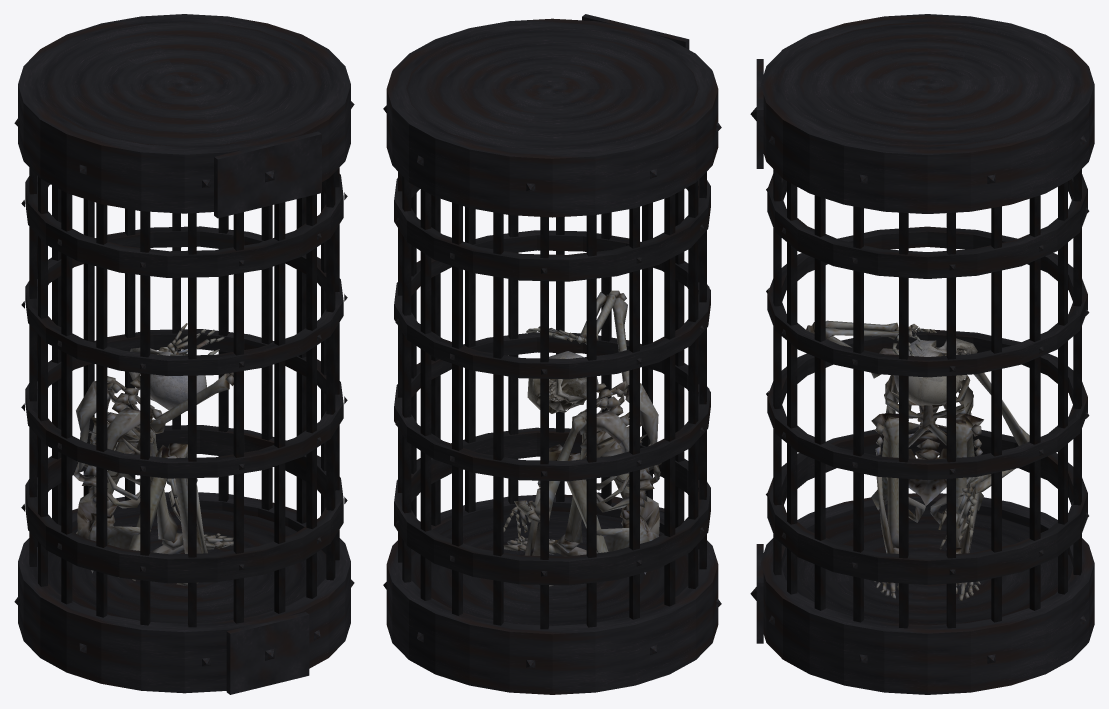
File: mm6_deco_bonecage.glb
The picture shows the model from 3 angles, left to right: view 1: azimuth 30°, elevation 25°; view 2: azimuth 150°, elevation 25°; view 3: azimuth 270°, elevation 25°; orthographic projection.
Visible parts, largest first — view 1: Bonecage; view 2: Bonecage; view 3: Bonecage.
Boxes of the visible parts, box(x1,y1,x2,y2) form: Bonecage: box(14, 14, 354, 694); Bonecage: box(383, 14, 721, 694); Bonecage: box(750, 14, 1094, 694).
Size of the model in its own units: 1.7 by 3.02 by 1.75.
3 materials, 3 textured.
